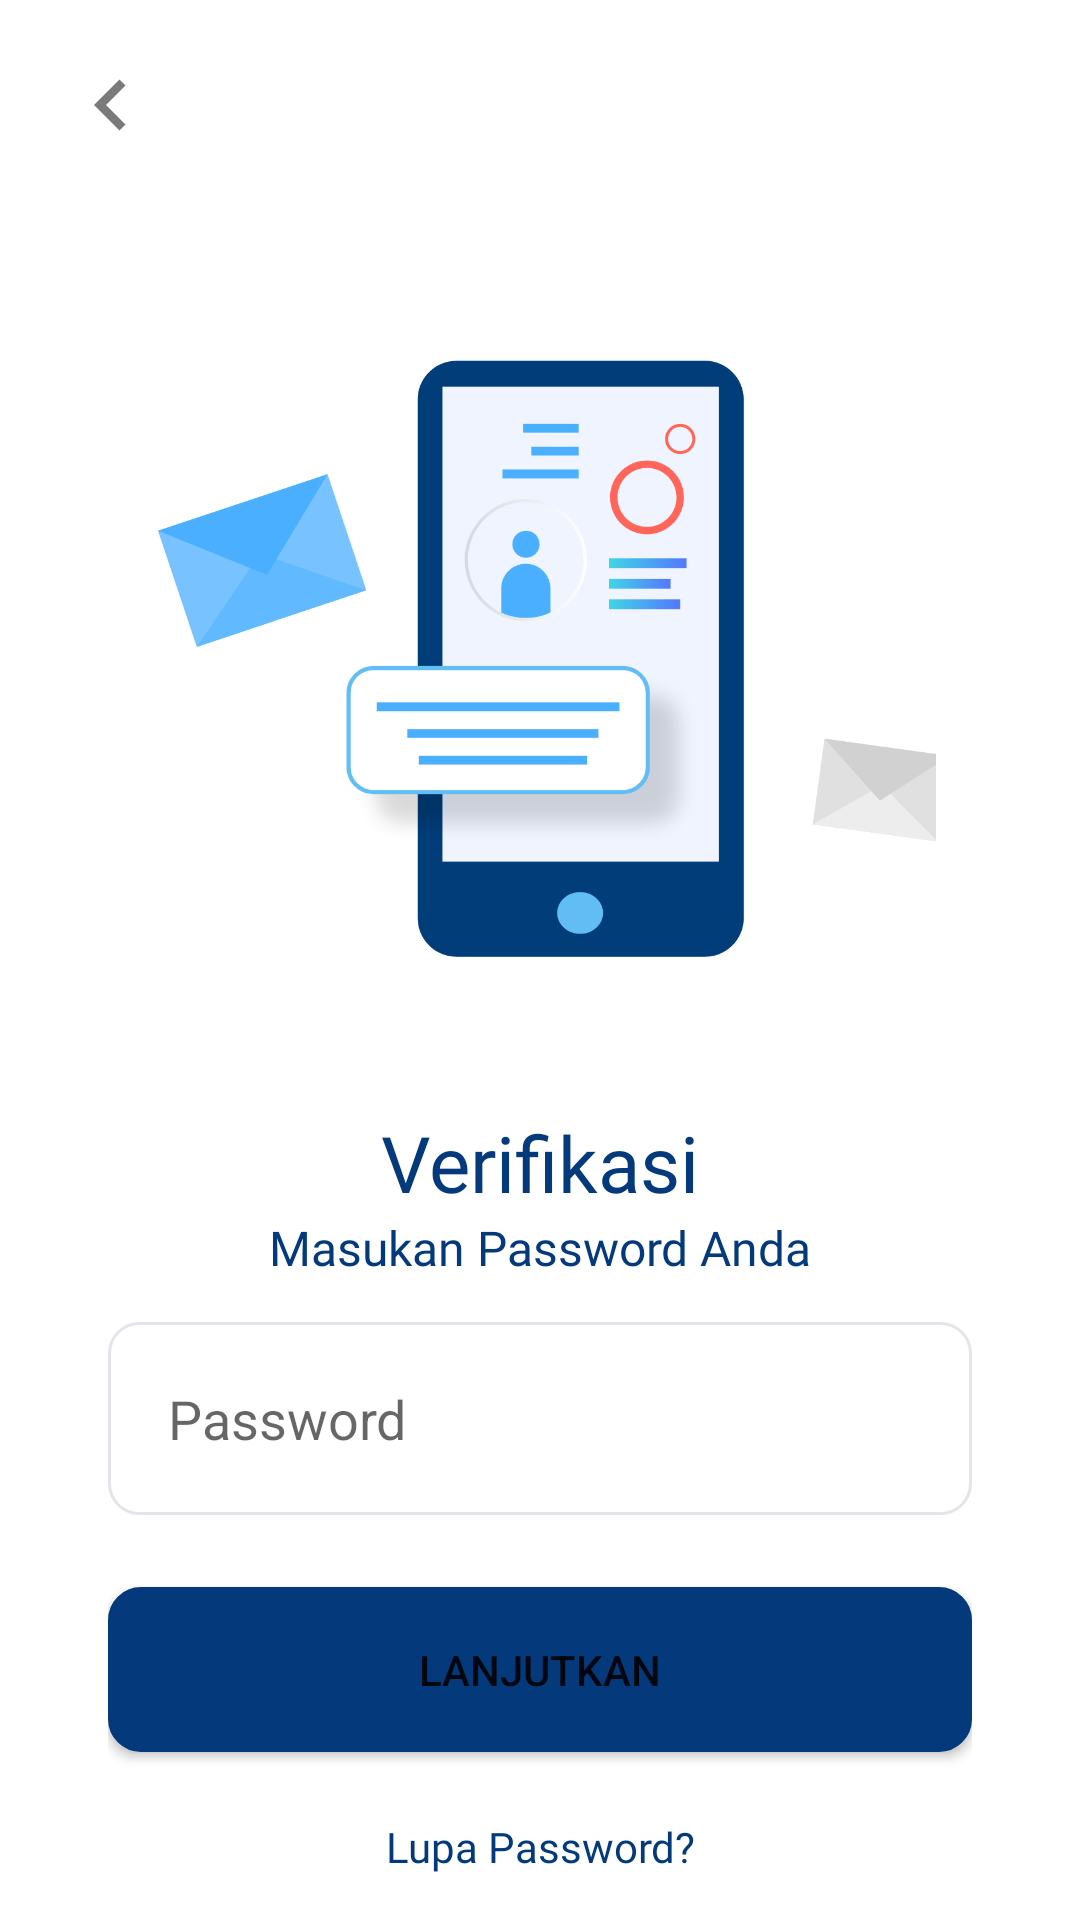

Point at icon controls on the screen. Image size 1080px x 1920px, points as (x=x, y=y).
back: (x=110, y=105)
